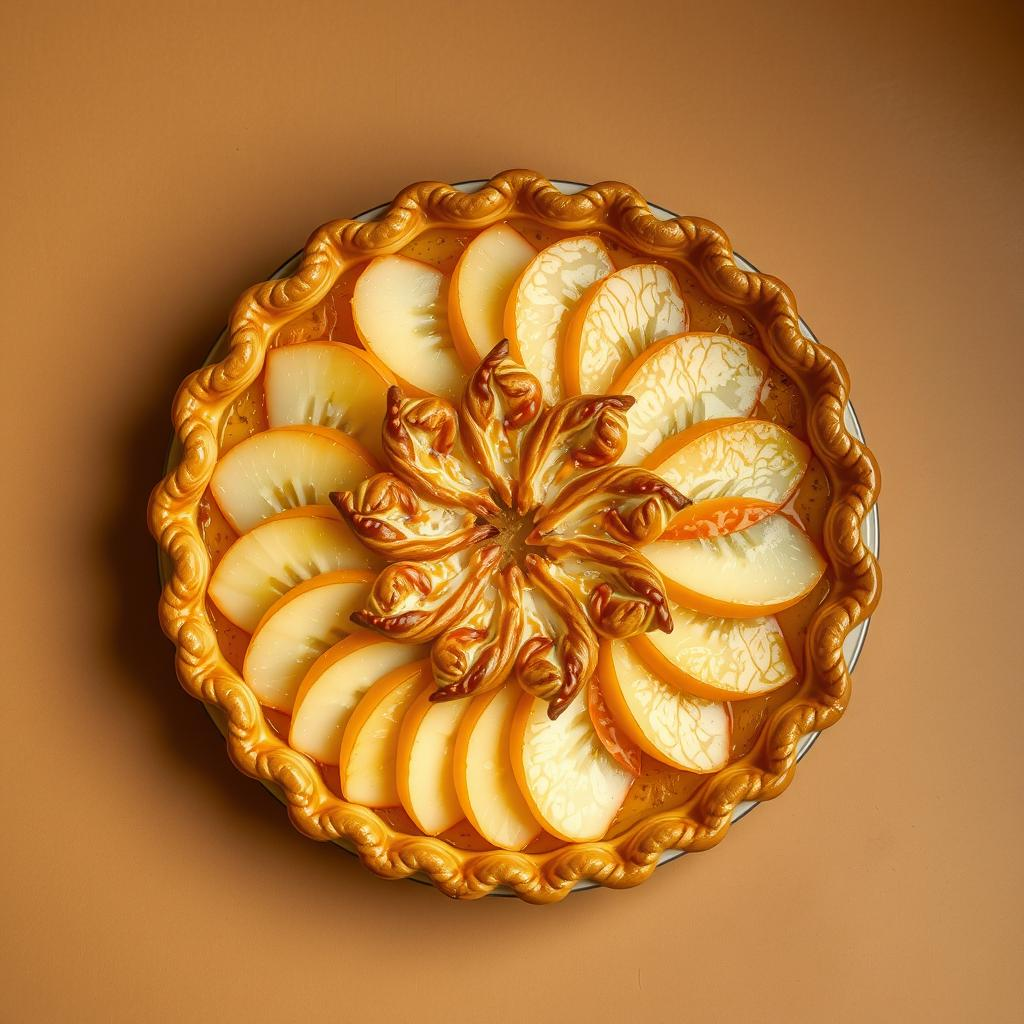cake: (140, 164, 897, 916)
